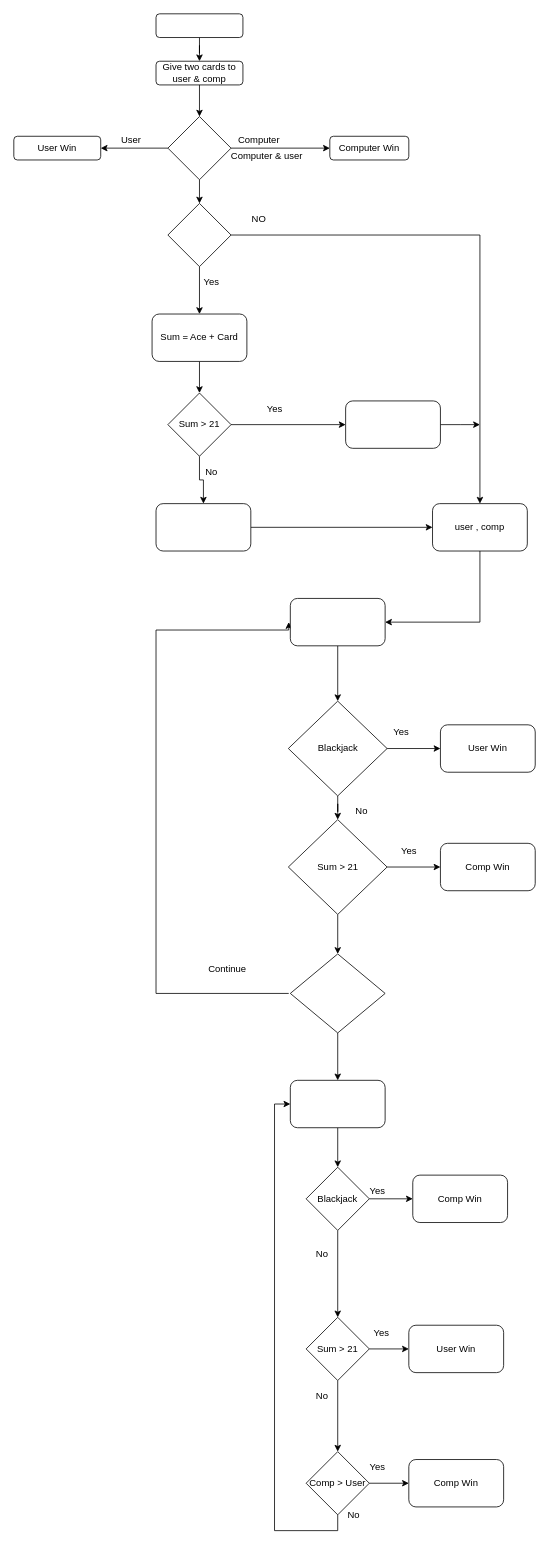
Image size: 549x1551. Some labels were removed from this diagram. Each missing label, with the centre of its shape:
ace = 1: (392,424)
Ace = 11: (203,527)
Blackjack (Ace + 10): (199,148)
card == Ace ?: (199,235)
Continue or pass: (337,993)
Get card for comp Sum = Sum + card: (337,1104)
Give one card to user Sum = Sum + card: (337,622)
Start: (199,25)
